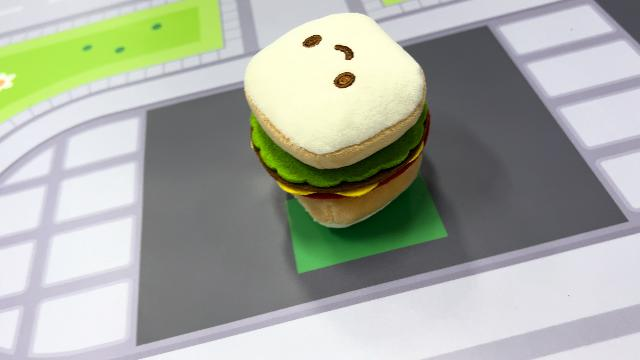sandwich: (240, 11, 434, 229)
